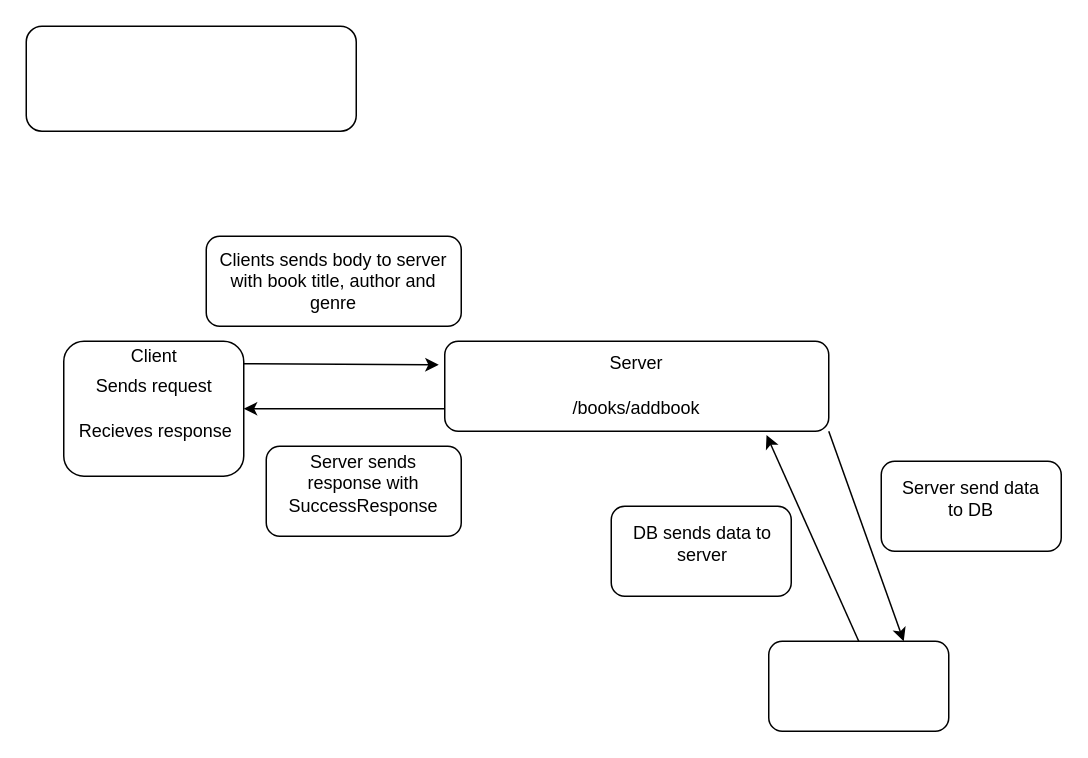
This 1088x758 diagram has some shape labels left out. The shapes that lost their labels are listed below. From the top down, each one's centre as x and y in pixels, then its label:
At (x=190, y=78): "Create a Book".
At (x=858, y=685): "DB: stores book".
